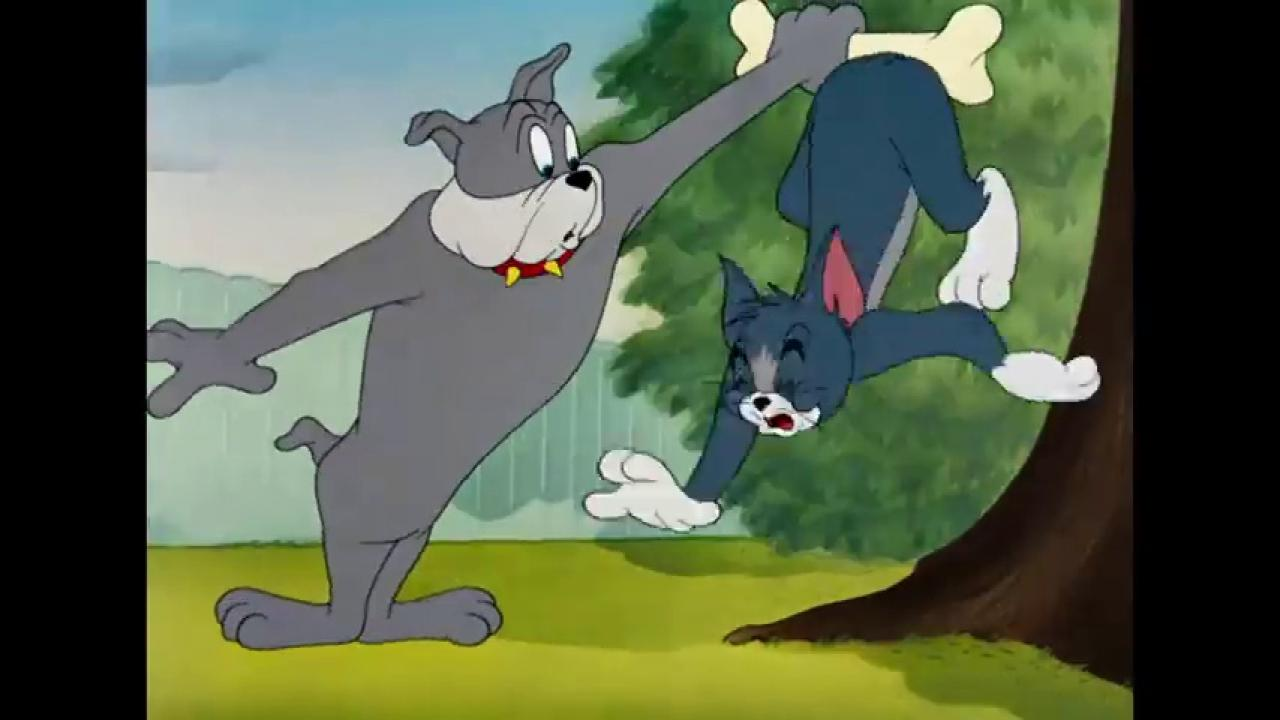Tom: (584, 49, 1103, 536)
